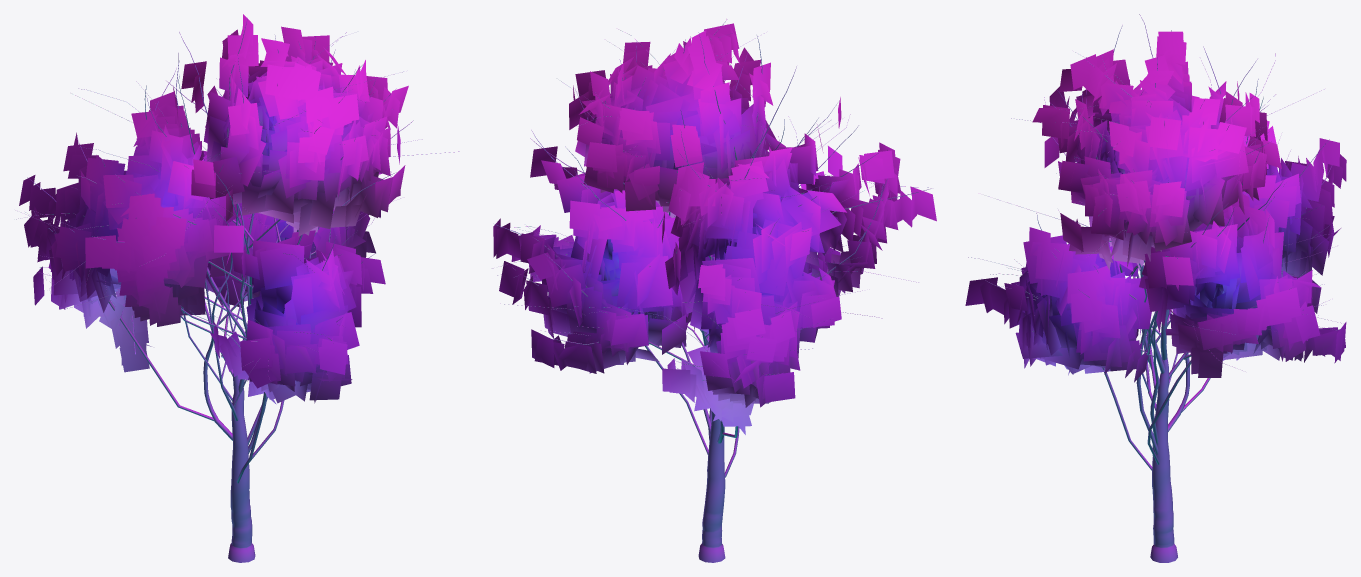
The model's file is tree_birch_s11_a30.fbx.
The picture shows the model from 3 angles, left to right: view 1: azimuth 30°, elevation 25°; view 2: azimuth 150°, elevation 25°; view 3: azimuth 270°, elevation 25°; orthographic projection.
Visible parts, largest first — view 1: tree_birch_s11_a30_leaves, tree_birch_s11_a30_branches; view 2: tree_birch_s11_a30_leaves, tree_birch_s11_a30_branches; view 3: tree_birch_s11_a30_leaves, tree_birch_s11_a30_branches.
Boxes of the visible parts, left/top/right/bottom form: tree_birch_s11_a30_leaves: left=19, top=14, right=408, bottom=404; tree_birch_s11_a30_branches: left=16, top=19, right=459, bottom=562; tree_birch_s11_a30_leaves: left=493, top=19, right=936, bottom=434; tree_birch_s11_a30_branches: left=492, top=19, right=931, bottom=562; tree_birch_s11_a30_leaves: left=965, top=31, right=1346, bottom=382; tree_birch_s11_a30_branches: left=968, top=14, right=1341, bottom=562.
Bounding box in the file's own units: 9.37 × 12.3 × 7.98.
